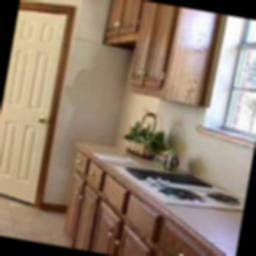Electrodomestico: (115, 156, 246, 225)
Puerta: (0, 5, 68, 206)
